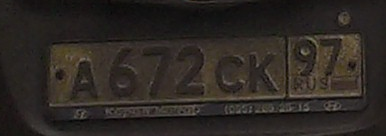character: (138, 42, 172, 99), (172, 42, 206, 98), (67, 54, 102, 102), (246, 49, 281, 96), (316, 28, 347, 79), (214, 51, 248, 96), (108, 45, 138, 95), (291, 34, 319, 78)
